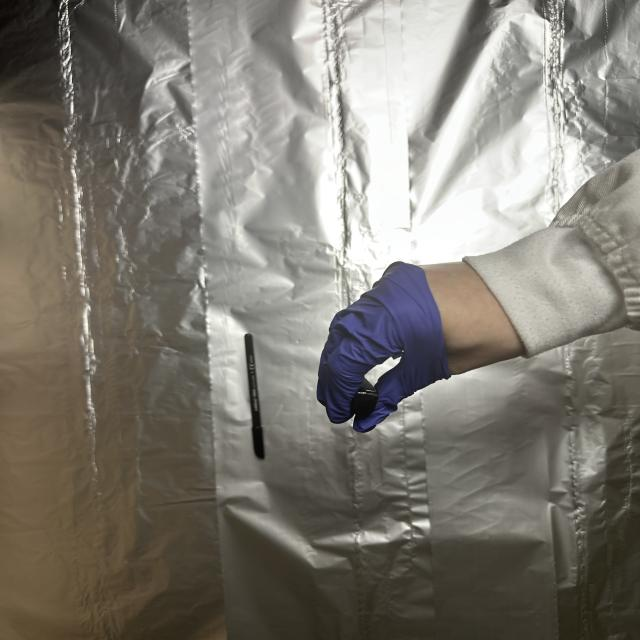glove_partial: (318, 253, 522, 433)
